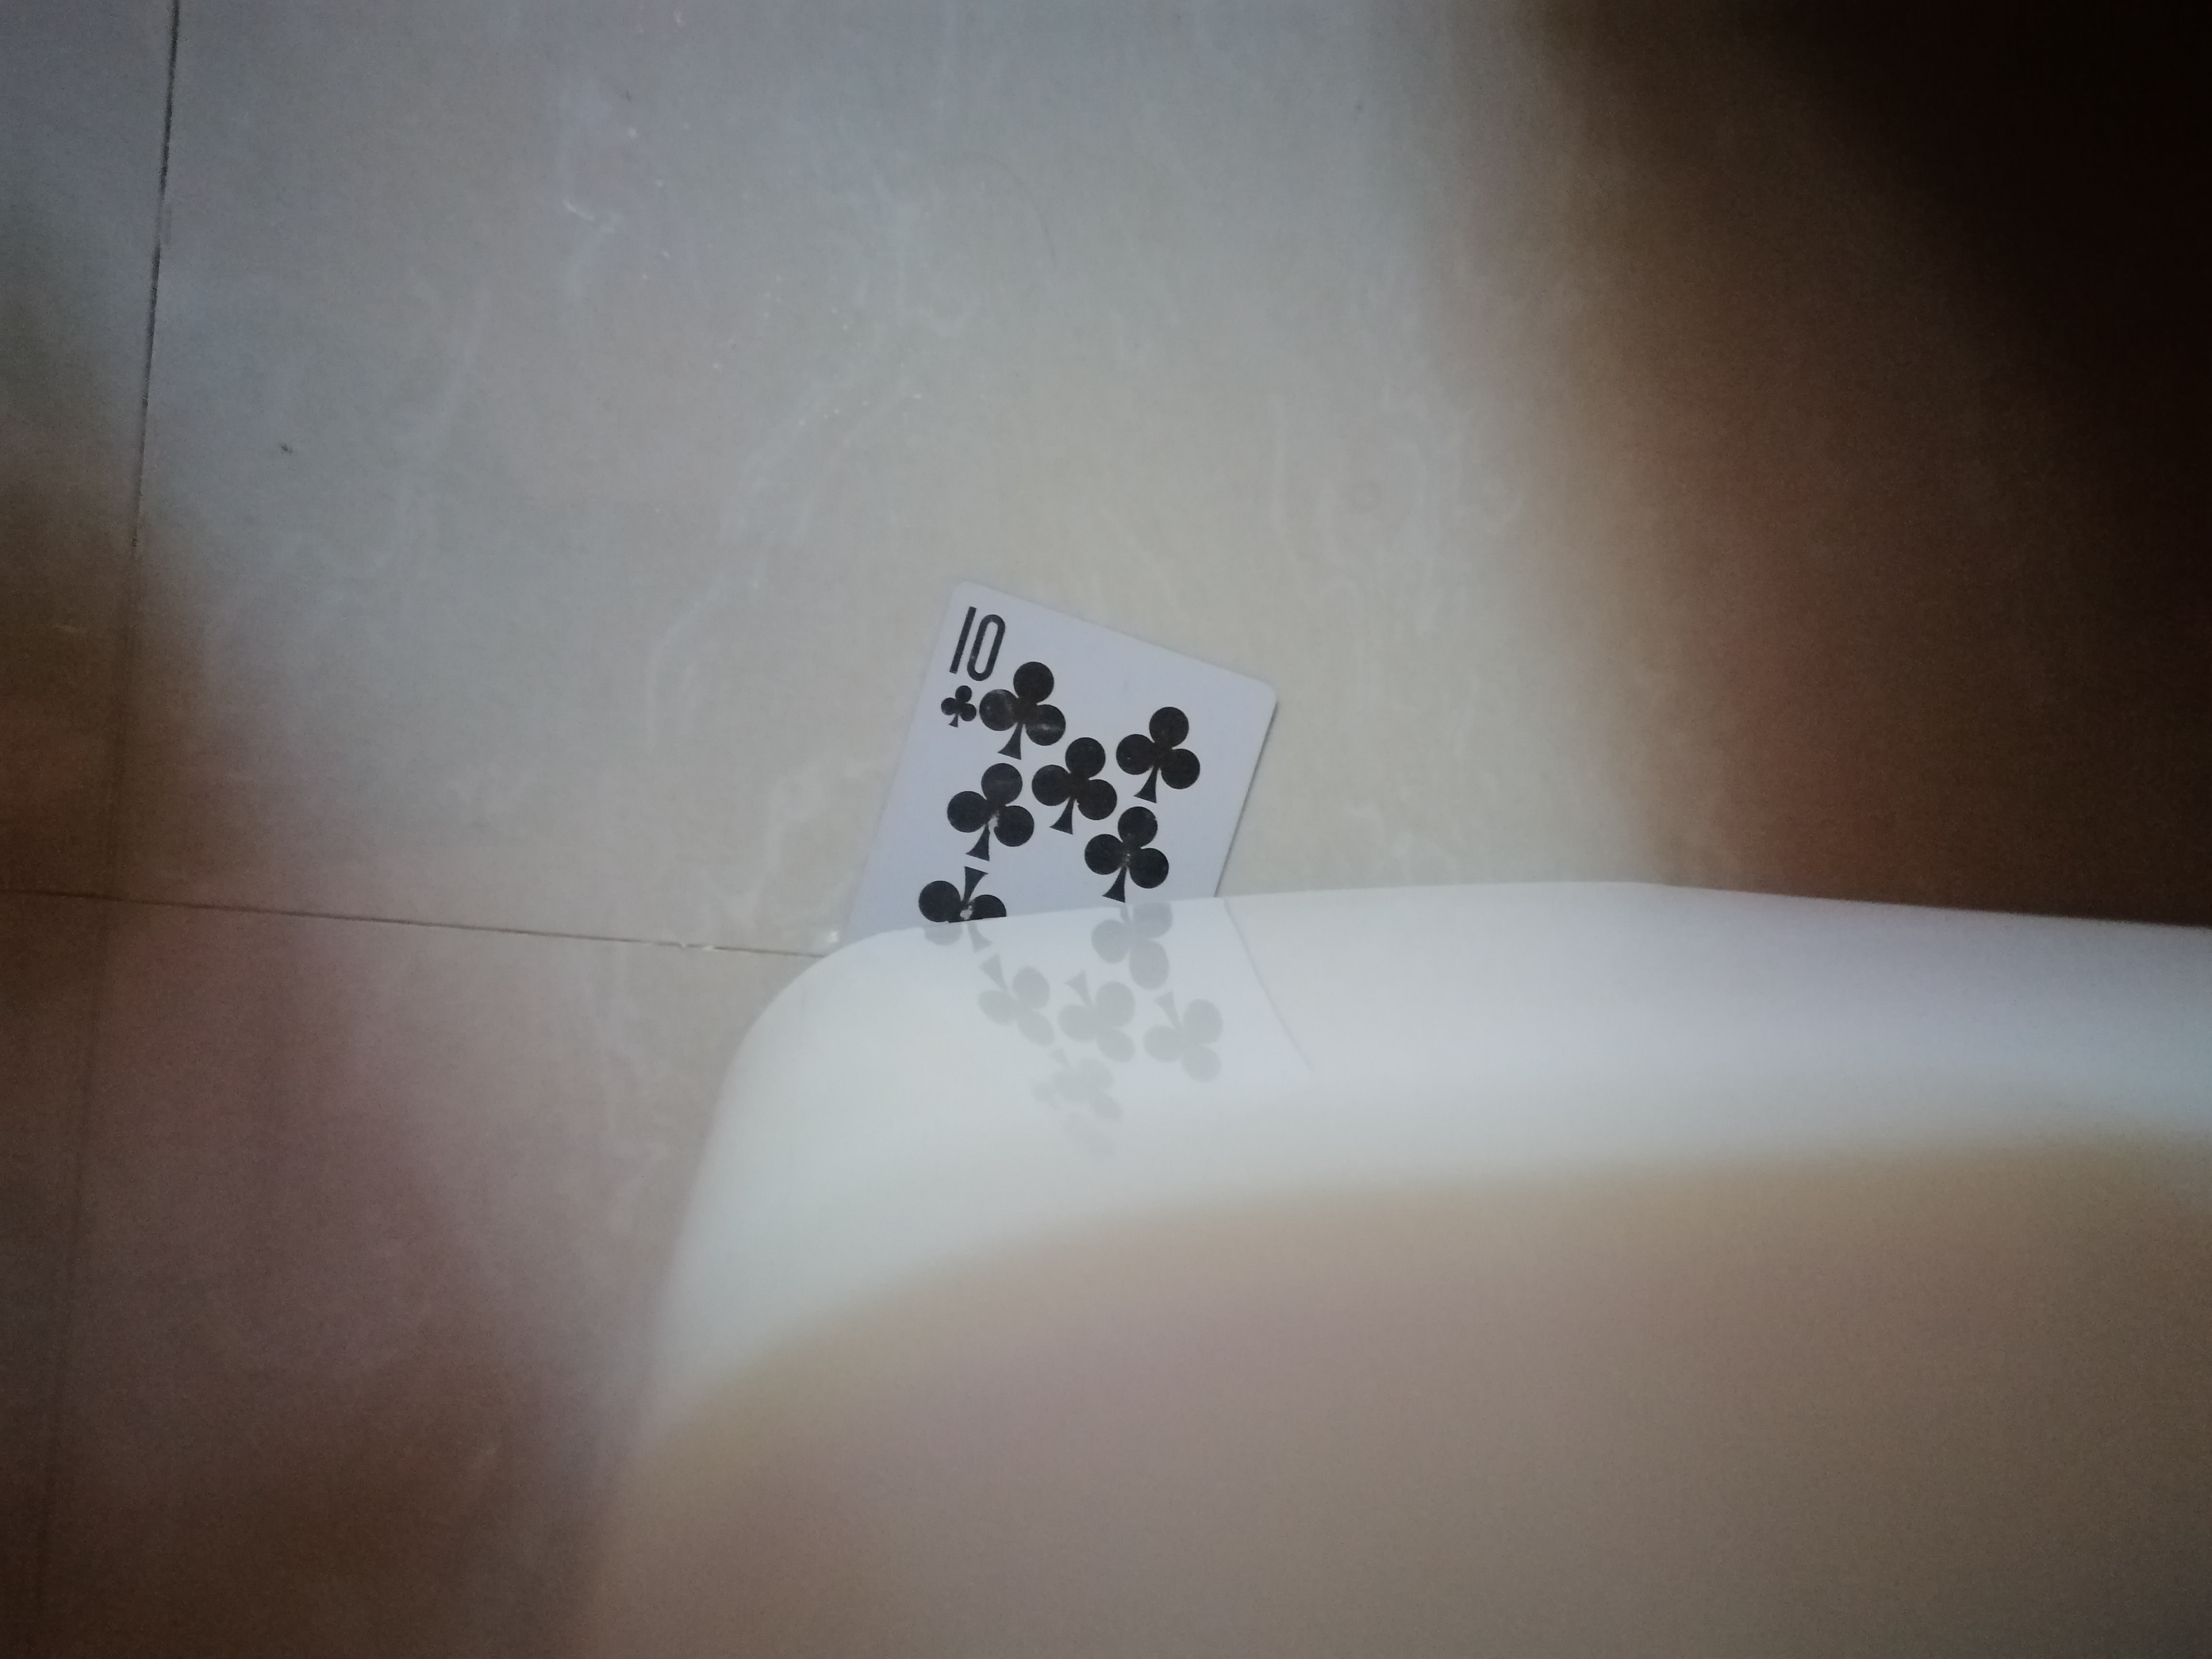ten: (855, 565, 1282, 976)
